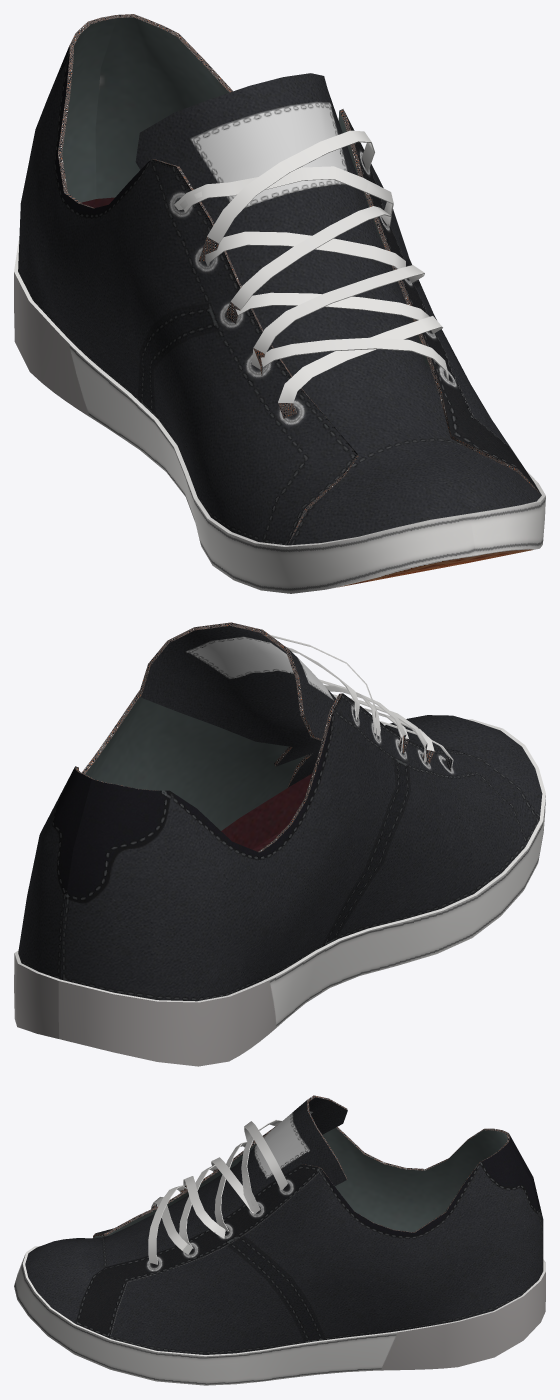
Rendered from shoe2.dae.
3 renders of one model, top to bottom at view 1: azimuth 30°, elevation 25°; view 2: azimuth 150°, elevation 25°; view 3: azimuth 270°, elevation 25°, orthographic. The views are drawn at different scales.
Parts seen in each view (by area): view 1: _3DGeom_1_Defintion_6 (×18); view 2: _3DGeom_1_Defintion_6 (×10); view 3: _3DGeom_1_Defintion_6 (×16).
Boxes of the visible parts, x1,y1,x2,y2 form: _3DGeom_1_Defintion_6 (×18): (14, 15, 545, 593); _3DGeom_1_Defintion_6 (×10): (14, 622, 545, 1066); _3DGeom_1_Defintion_6 (×16): (14, 1097, 545, 1385).
Size of the model in its own units: 2.92 by 7.14 by 3.55.
2 materials, 2 textured.
